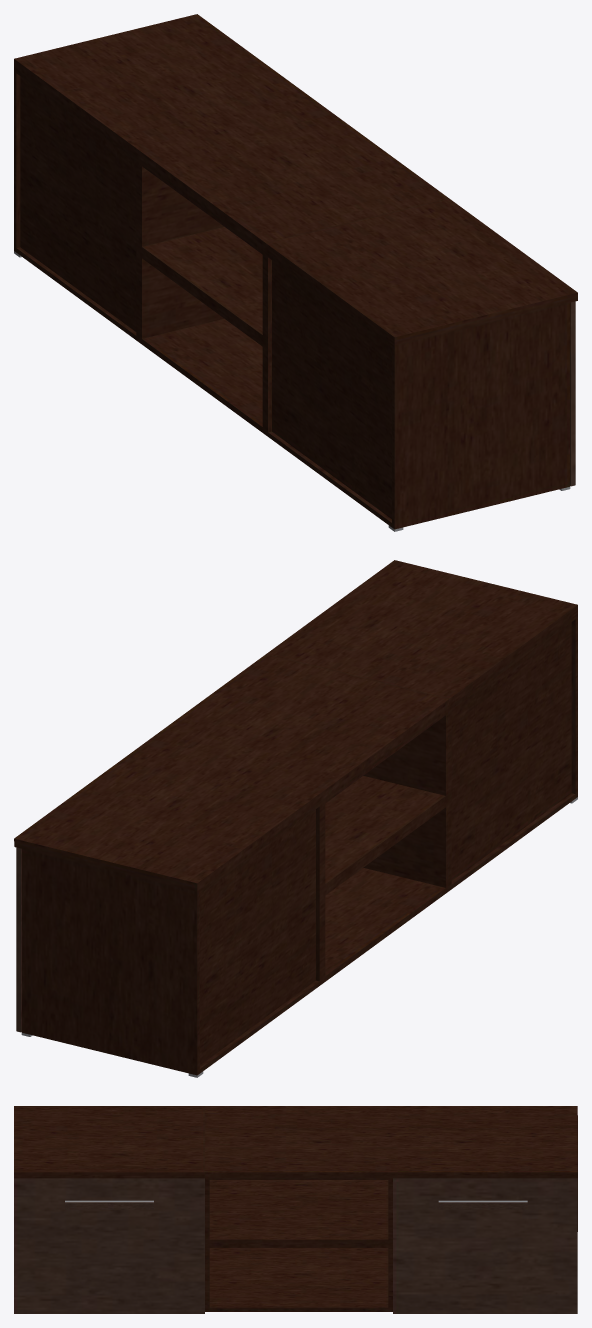
File: TVStand.fbx
3 renders of one model, top to bottom at view 1: azimuth 30°, elevation 25°; view 2: azimuth 150°, elevation 25°; view 3: azimuth 270°, elevation 25°, orthographic. The views are drawn at different scales.
Visible parts, largest first — view 1: tv_stand_room_Cube.001; view 2: tv_stand_room_Cube.001; view 3: tv_stand_room_Cube.001.
Boxes of the visible parts, left/top/right/bottom form: tv_stand_room_Cube.001: left=14, top=14, right=577, bottom=531; tv_stand_room_Cube.001: left=14, top=560, right=577, bottom=1077; tv_stand_room_Cube.001: left=14, top=1106, right=577, bottom=1313.
Bounding box in the file's own units: 43.07 × 42.3 × 150.
1 material, 1 textured.
